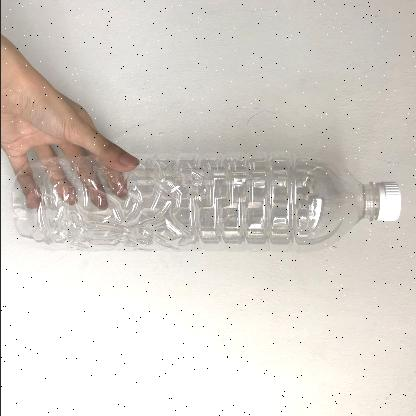Plastic Bottle: (7, 152, 399, 248)
